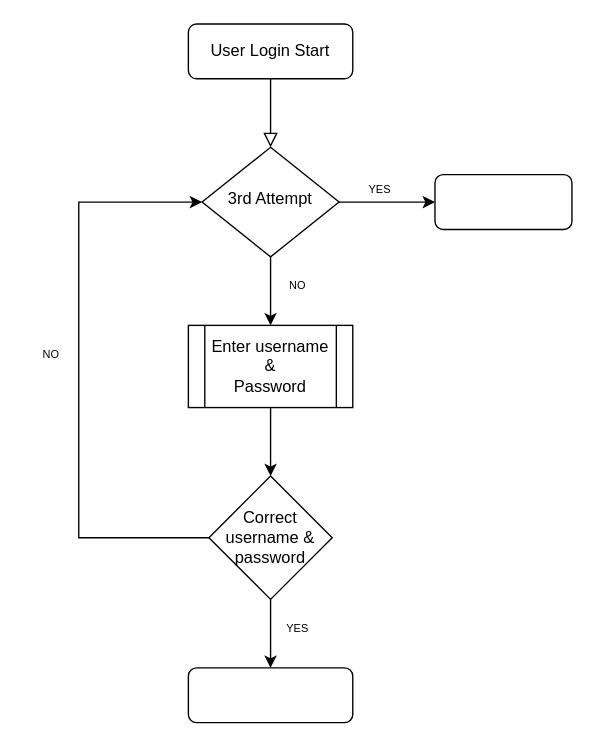
Image size: 596x747. Some labels were removed from this diagram. Each missing label, with the centre of its shape:
Logged in: [270,695]
User locked: [503,201]
